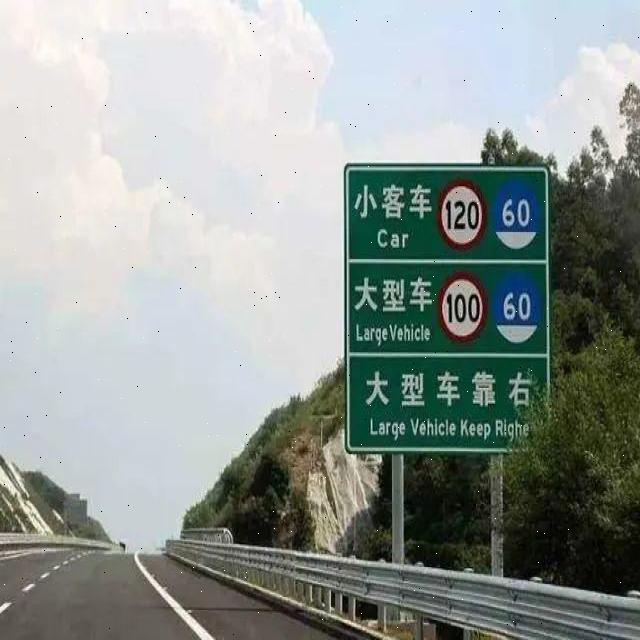speed limit 100: (438, 272, 486, 344)
speed limit 120: (437, 178, 487, 251)
speed limit 60: (491, 181, 538, 251), (492, 273, 539, 343)
